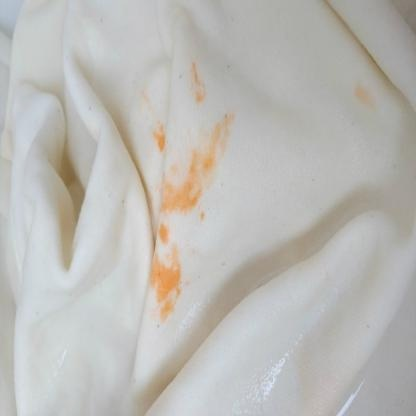kimchi: (154, 114, 236, 228), (133, 230, 195, 326), (178, 58, 213, 110), (144, 88, 168, 154), (344, 76, 376, 118)
